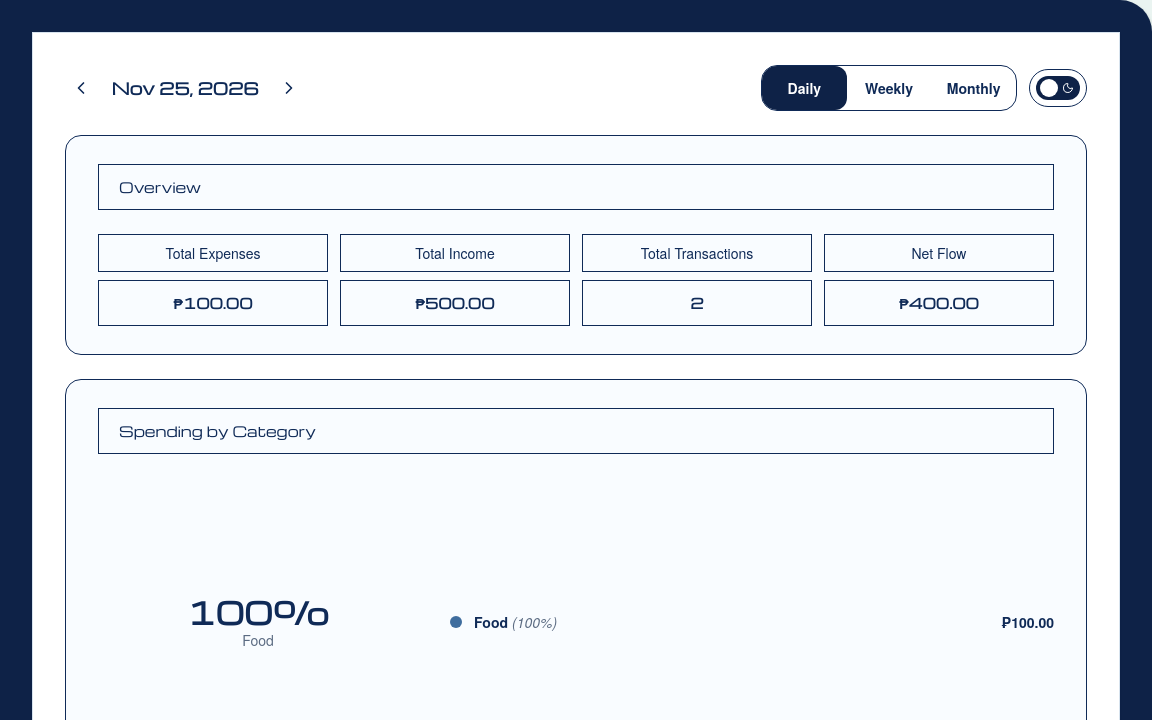
Test case: Summary › shows an empty state for a period with no transactions
The width and height of the screenshot is (1152, 720).
What coordinates should you click on to do the following:
click the button named "Next period"
I would click on:
 (289, 88)
Its box is 273,72 -> 305,104.
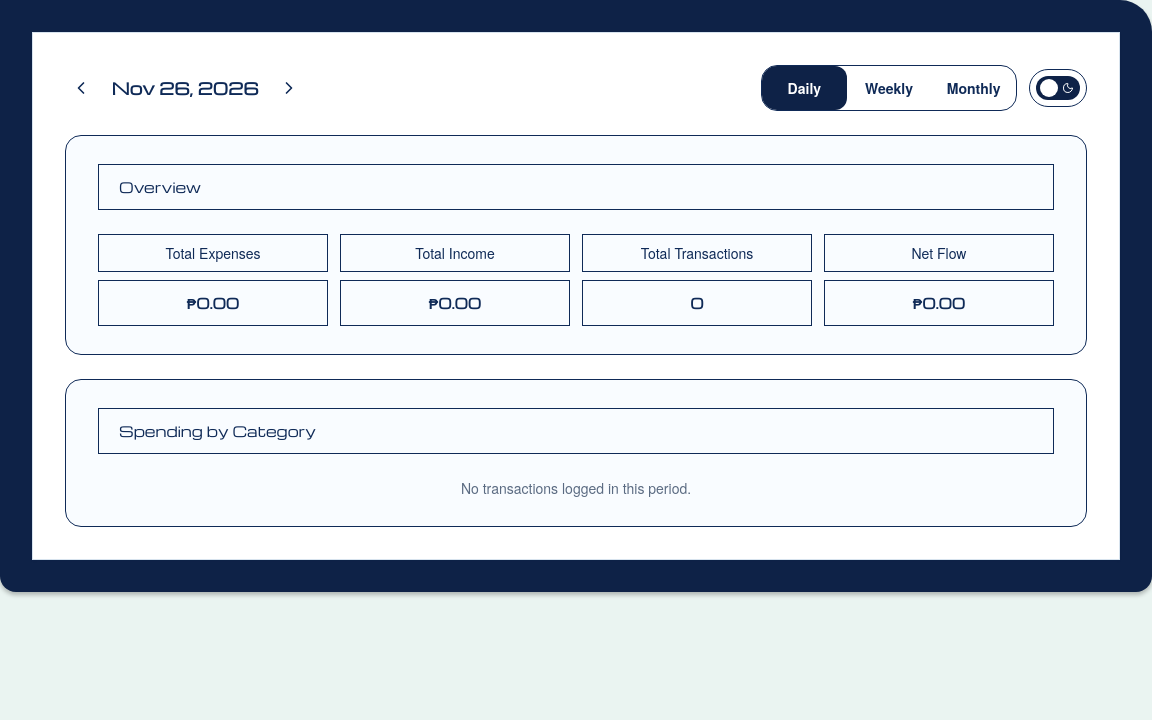
Expected: the text "No transactions logged in this period." is shown, 461,478 -> 691,498
